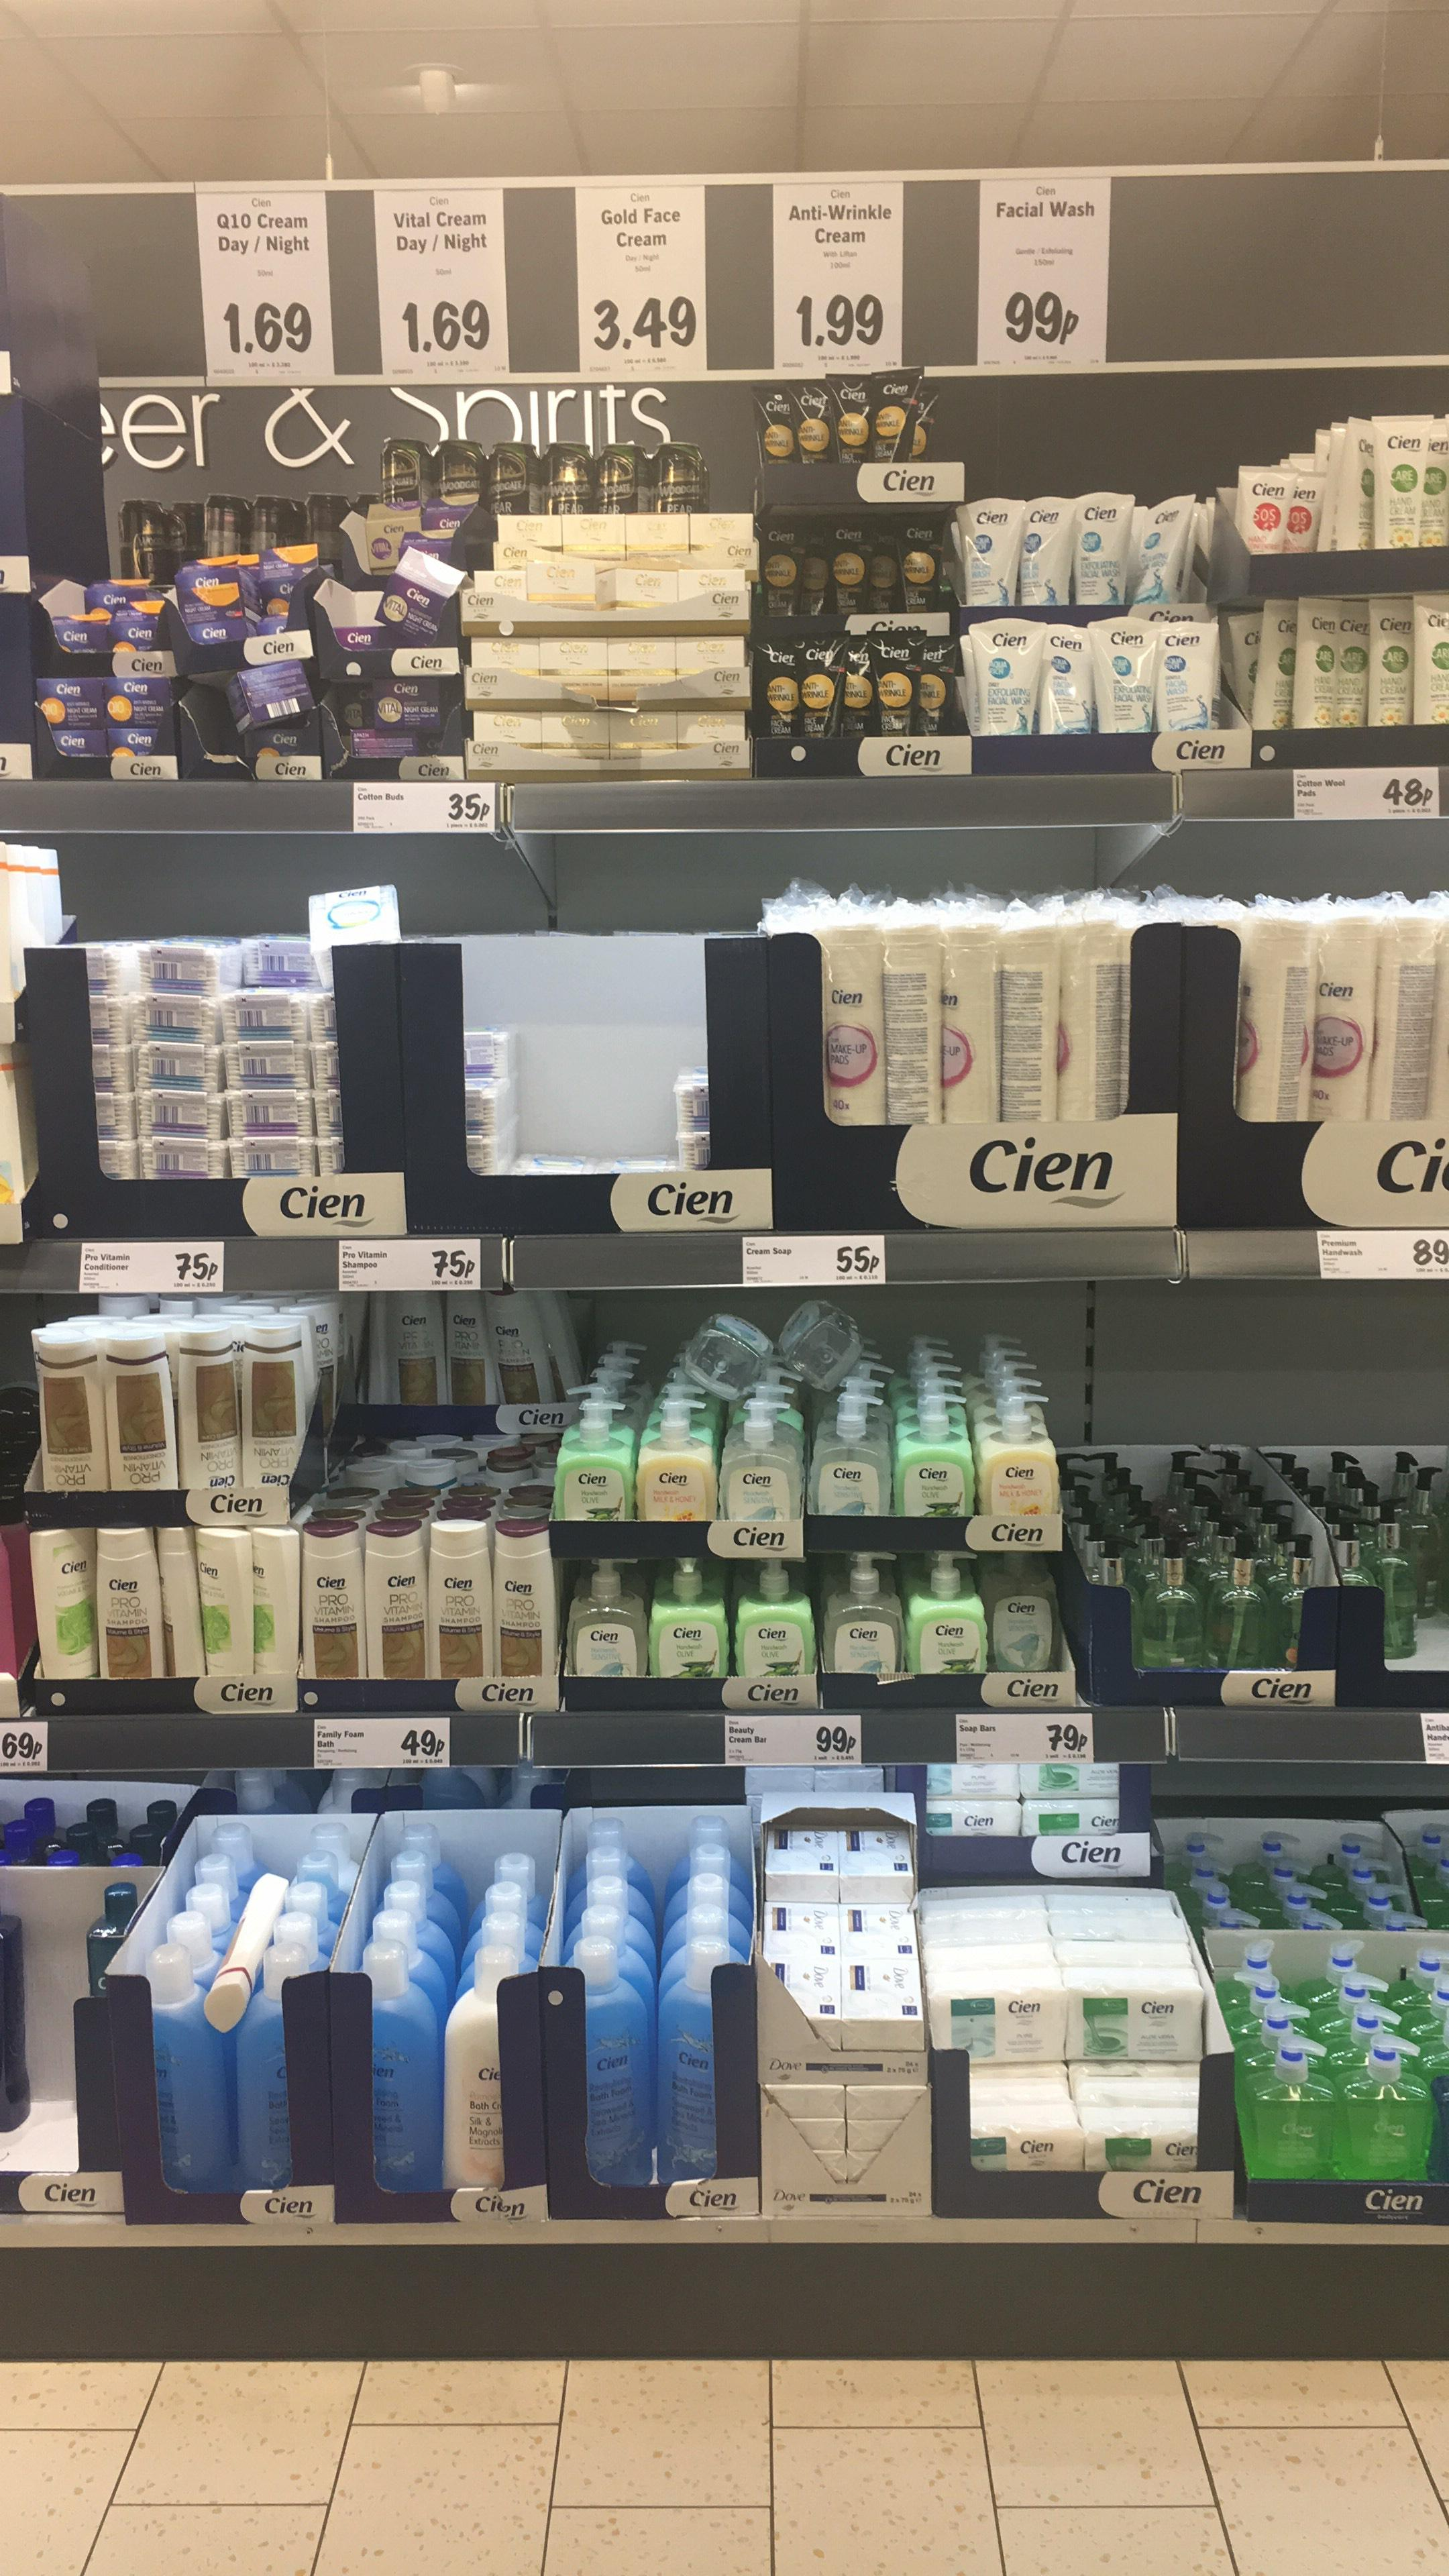misalignment: (177, 548, 313, 653), (212, 1851, 269, 2026), (303, 874, 403, 968), (780, 1293, 867, 1391), (380, 548, 465, 632), (483, 1297, 550, 1401), (685, 1306, 763, 1387), (1040, 625, 1099, 732), (226, 656, 317, 724), (1141, 504, 1196, 603), (1339, 416, 1380, 547), (1251, 603, 1293, 727)
